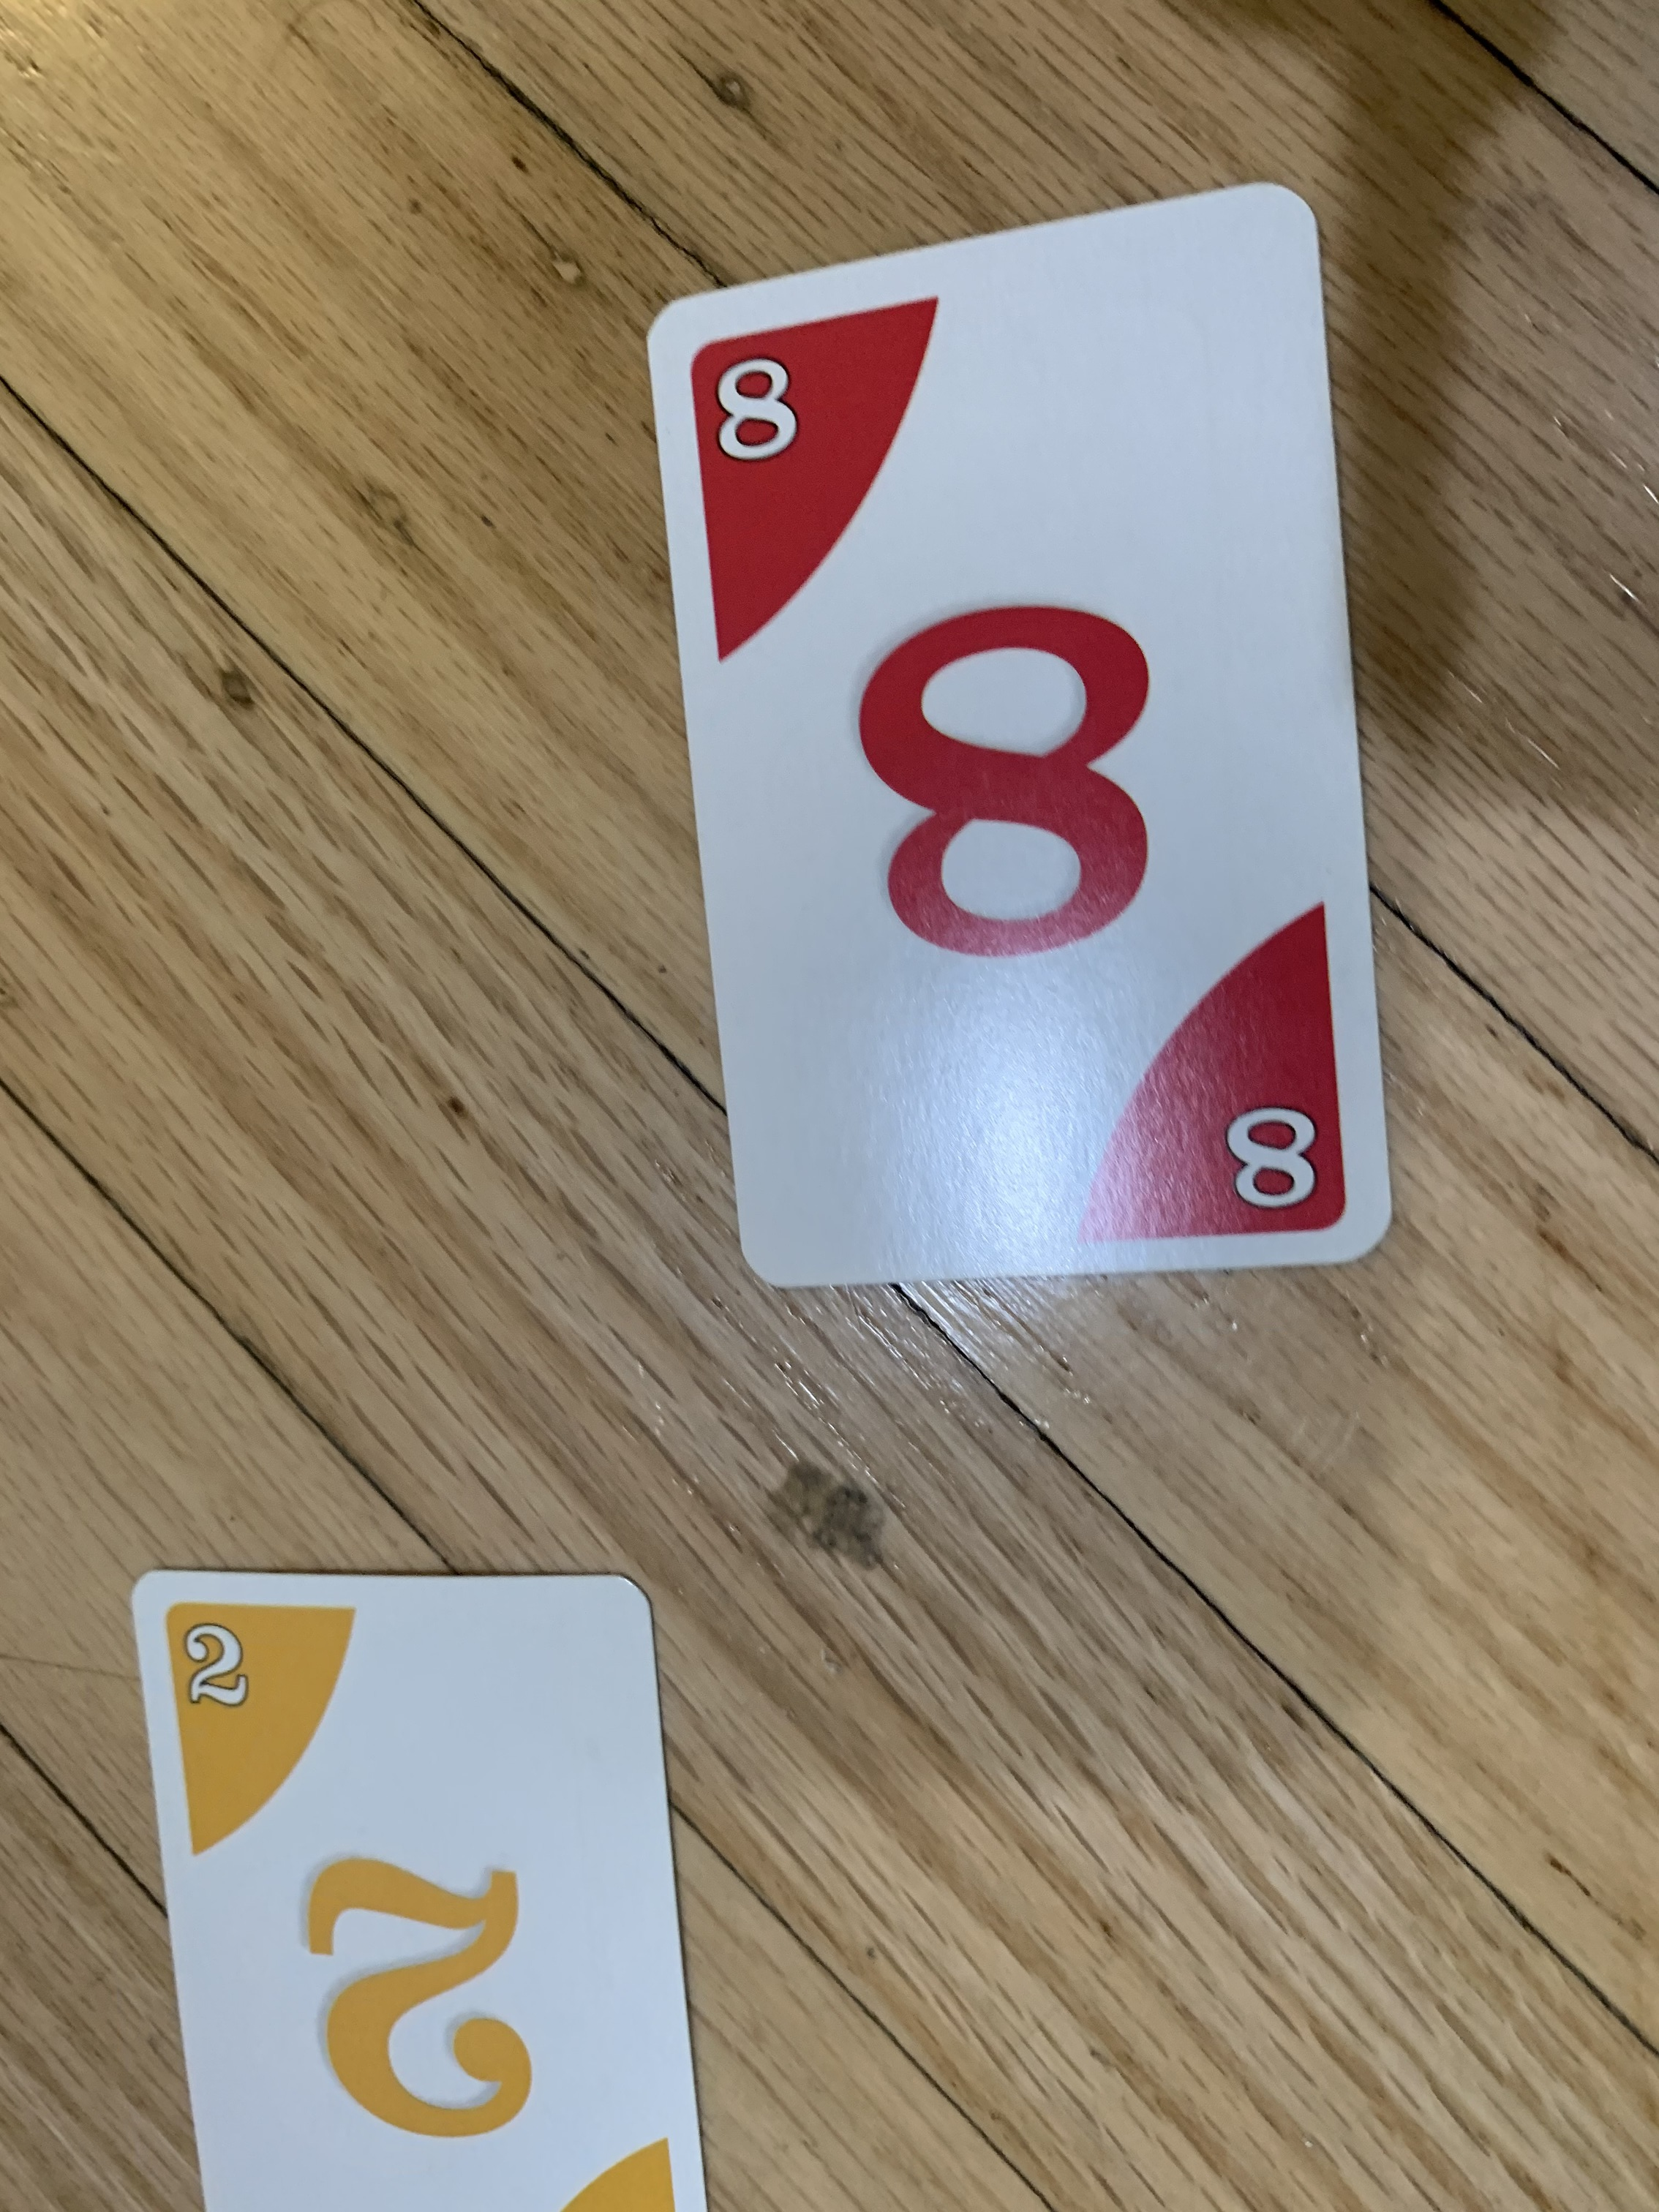eight: (634, 174, 1417, 1303)
two: (124, 1554, 721, 2212)
